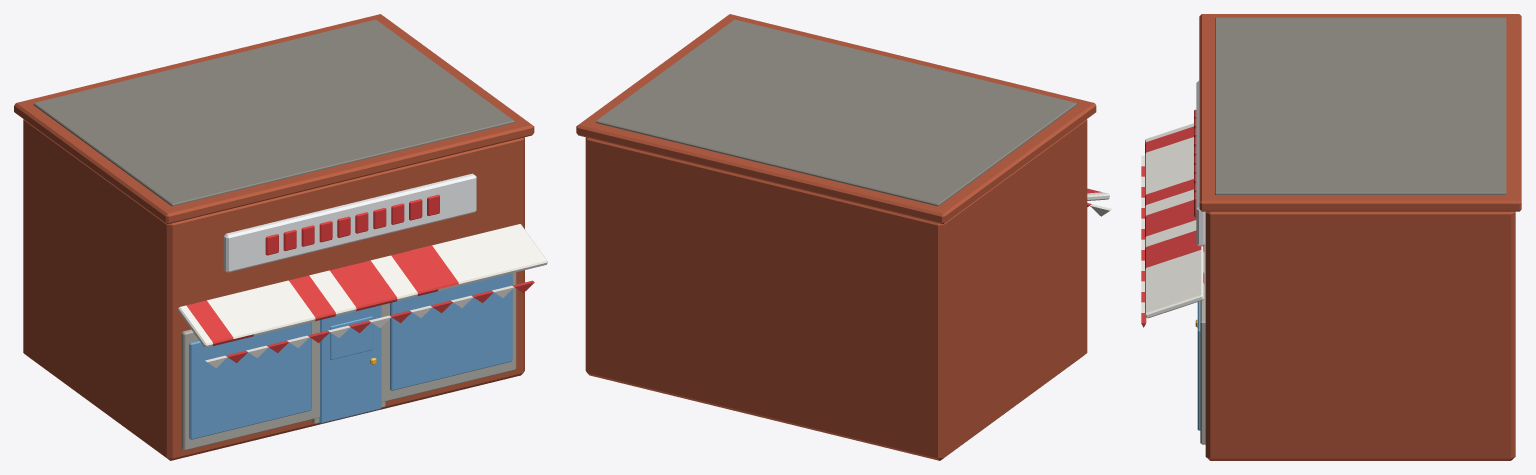
File: Shop.fbx
3 renders of one model, left to right at view 1: azimuth 30°, elevation 25°; view 2: azimuth 150°, elevation 25°; view 3: azimuth 270°, elevation 25°, orthographic. The views are drawn at different scales.
Parts seen in each view (by area): view 1: Shop; view 2: Shop; view 3: Shop.
Part boxes in pixels (x1,y1,x2,y2): Shop: (14,14,547,460); Shop: (576,14,1111,460); Shop: (1141,14,1521,460).
Bounding box in the file's own units: 14.4 × 9.48 × 12.28.
1 material, 1 textured.
